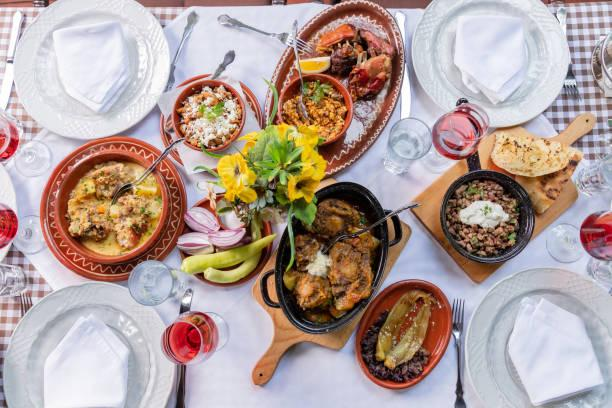Braised Crucian Carp: (265, 0, 404, 179), (38, 136, 190, 283), (262, 179, 397, 334), (354, 280, 452, 390), (439, 169, 535, 263)
